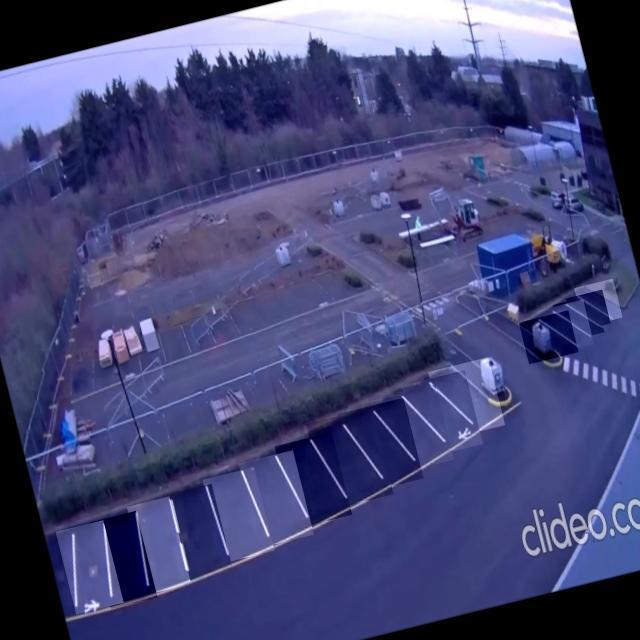empty: (308, 416, 392, 504), (339, 405, 421, 487), (239, 454, 312, 544), (276, 437, 351, 524), (204, 470, 274, 561), (170, 484, 232, 579), (373, 392, 451, 467), (405, 379, 479, 451), (136, 496, 190, 593), (430, 366, 502, 432), (103, 511, 150, 608), (72, 520, 112, 614), (540, 306, 592, 348), (521, 317, 577, 356), (554, 301, 602, 336), (577, 284, 620, 319), (567, 295, 609, 325)
